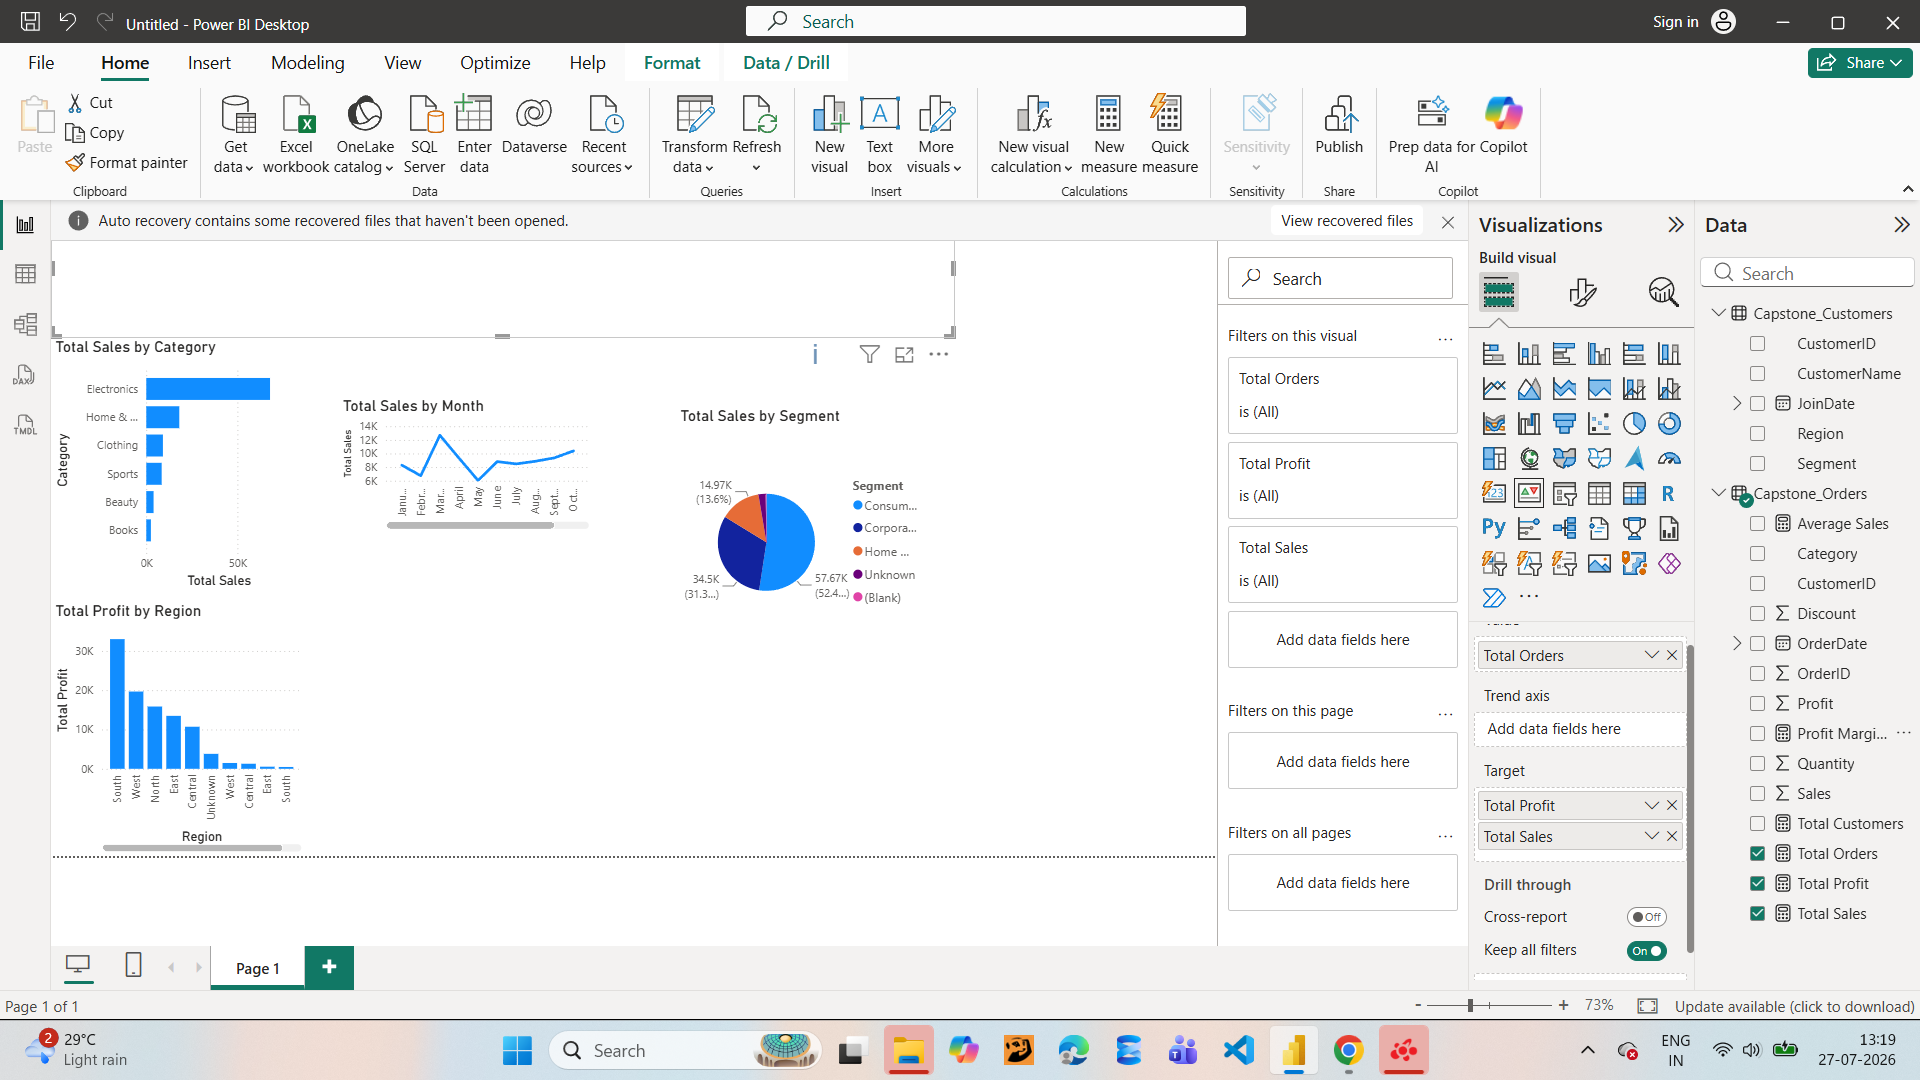

This screenshot's page, from the dashboard's own definition file:
{"tool":"powerbi","page":{"name":"Page 1","canvas":[1280,720],"ordinal":0},"visuals":[{"type":"clusteredBarChart","fields":{"Category":["Capstone_Orders.Category"],"Y":["Capstone_Orders.Total Sales"]},"box":[0,290.9,260.7,183.9],"z":0},{"type":"clusteredColumnChart","fields":{"Category":["Capstone_Customers.Region"],"Y":["Capstone_Orders.Total Profit"]},"box":[0,506.3,260.7,214.1],"z":1000},{"type":"lineChart","fields":{"Category":["Capstone_Orders.OrderDate.Variation.Date Hierarchy.Month"],"Y":["Capstone_Orders.Total Sales"]},"box":[292.3,290.9,333.4,183.9],"z":2000},{"type":"pieChart","fields":{"Y":["Capstone_Orders.Total Sales"],"Category":["Capstone_Customers.Segment"]},"box":[703.9,290.9,437.7,222.3],"z":3000},{"type":"kpi","fields":{"Indicator":["Capstone_Orders.Total Sales"],"Goal":["Capstone_Orders.Total Profit","Capstone_Orders.Total Orders"]},"box":[0,0,977,150.9],"z":4000},{"type":"kpi","fields":{"Indicator":["Capstone_Orders.Total Sales"],"Goal":["Capstone_Orders.Total Orders","Capstone_Orders.Total Profit"]},"box":[0,0,417.2,140],"z":5000},{"type":"kpi","fields":{"Indicator":["Capstone_Orders.Total Profit"],"Goal":["Capstone_Orders.Total Orders","Capstone_Orders.Total Sales"]},"box":[0,0,686.1,140],"z":6000},{"type":"kpi","fields":{"Indicator":["Capstone_Orders.Total Profit"],"Goal":["Capstone_Orders.Total Sales","Capstone_Orders.Total Orders"]},"box":[686,0,280,150],"z":7000},{"type":"cardVisual","fields":{"Data":["Capstone_Orders.Total Orders","Capstone_Orders.Total Profit","Capstone_Orders.Total Sales","Capstone_Orders.Profit Margin %"]},"box":[15.1,140,1184.2,109.8],"z":8000},{"type":"textbox","box":[182.5,0,783.5,111.1],"z":8002},{"type":"textbox","box":[1112,0,150,150],"z":8003},{"type":"textbox","box":[329.3,260.7,230.5,59],"z":8004},{"type":"textbox","box":[329.3,57.6,389.7,53.5],"z":8005}]}

Visuals, with their boxes on the page's 1280x720 design canvas (x1, y1, x2, y2). These are canvas units, not pixel positions in the 1920x1080 screenshot, which may show the page scaled, cropped or inside an application window:
clusteredBarChart - Capstone_Orders.Category x Capstone_Orders.Total Sales: select_region(0, 291, 261, 475)
clusteredColumnChart - Capstone_Customers.Region x Capstone_Orders.Total Profit: select_region(0, 506, 261, 720)
lineChart - Capstone_Orders.OrderDate.Variation.Date Hierarchy.Month x Capstone_Orders.Total Sales: select_region(292, 291, 626, 475)
pieChart - Capstone_Orders.Total Sales x Capstone_Customers.Segment: select_region(704, 291, 1142, 513)
kpi - Capstone_Orders.Total Sales x Capstone_Orders.Total Profit: select_region(0, 0, 977, 151)
kpi - Capstone_Orders.Total Sales x Capstone_Orders.Total Orders: select_region(0, 0, 417, 140)
kpi - Capstone_Orders.Total Profit x Capstone_Orders.Total Orders: select_region(0, 0, 686, 140)
kpi - Capstone_Orders.Total Profit x Capstone_Orders.Total Sales: select_region(686, 0, 966, 150)
cardVisual - Capstone_Orders.Total Orders x Capstone_Orders.Total Profit: select_region(15, 140, 1199, 250)
textbox: select_region(182, 0, 966, 111)
textbox: select_region(1112, 0, 1262, 150)
textbox: select_region(329, 261, 560, 320)
textbox: select_region(329, 58, 719, 111)
